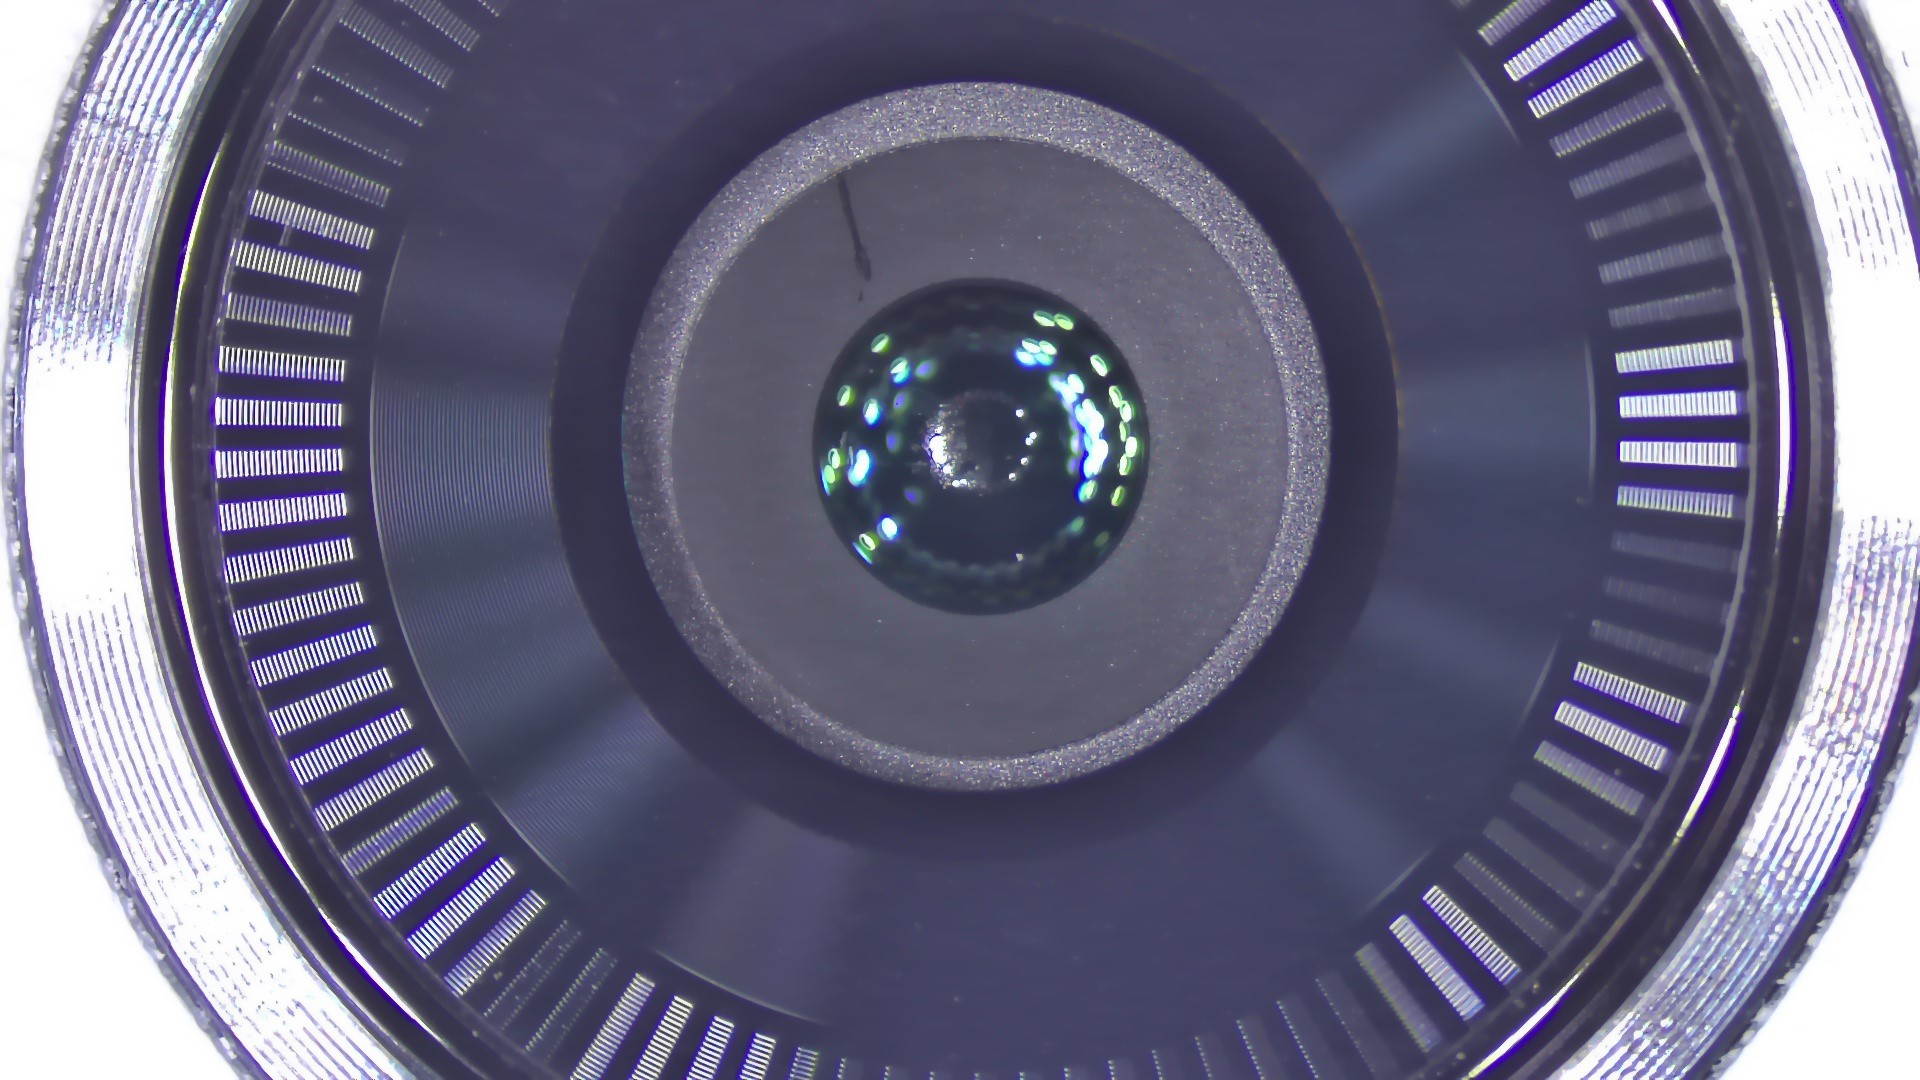crack: (824, 157, 883, 312)
